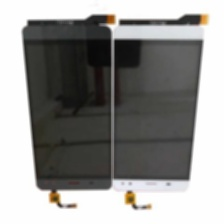phone: (18, 20, 113, 193), (111, 21, 207, 192)
